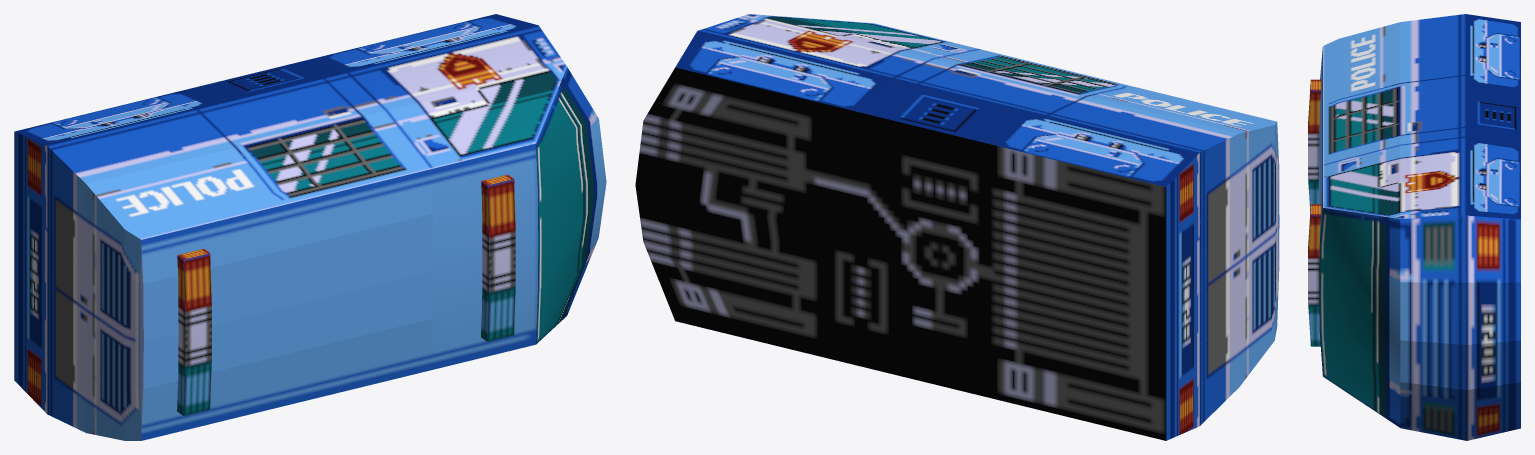
Rendered from police_van.obj.
3 views of the same model, side by side, from view 1: azimuth 30°, elevation 25°; view 2: azimuth 150°, elevation 25°; view 3: azimuth 270°, elevation 25° (orthographic). The views are drawn at different scales.
Visible parts, largest first — view 1: van_police; view 2: van_police; view 3: van_police.
Boxes of the visible parts, x1,y1,x2,y2 form: van_police: [14, 14, 606, 440]; van_police: [635, 14, 1279, 440]; van_police: [1308, 14, 1520, 440].
Bounding box in the file's own units: 56.46 × 27.27 × 23.35.
